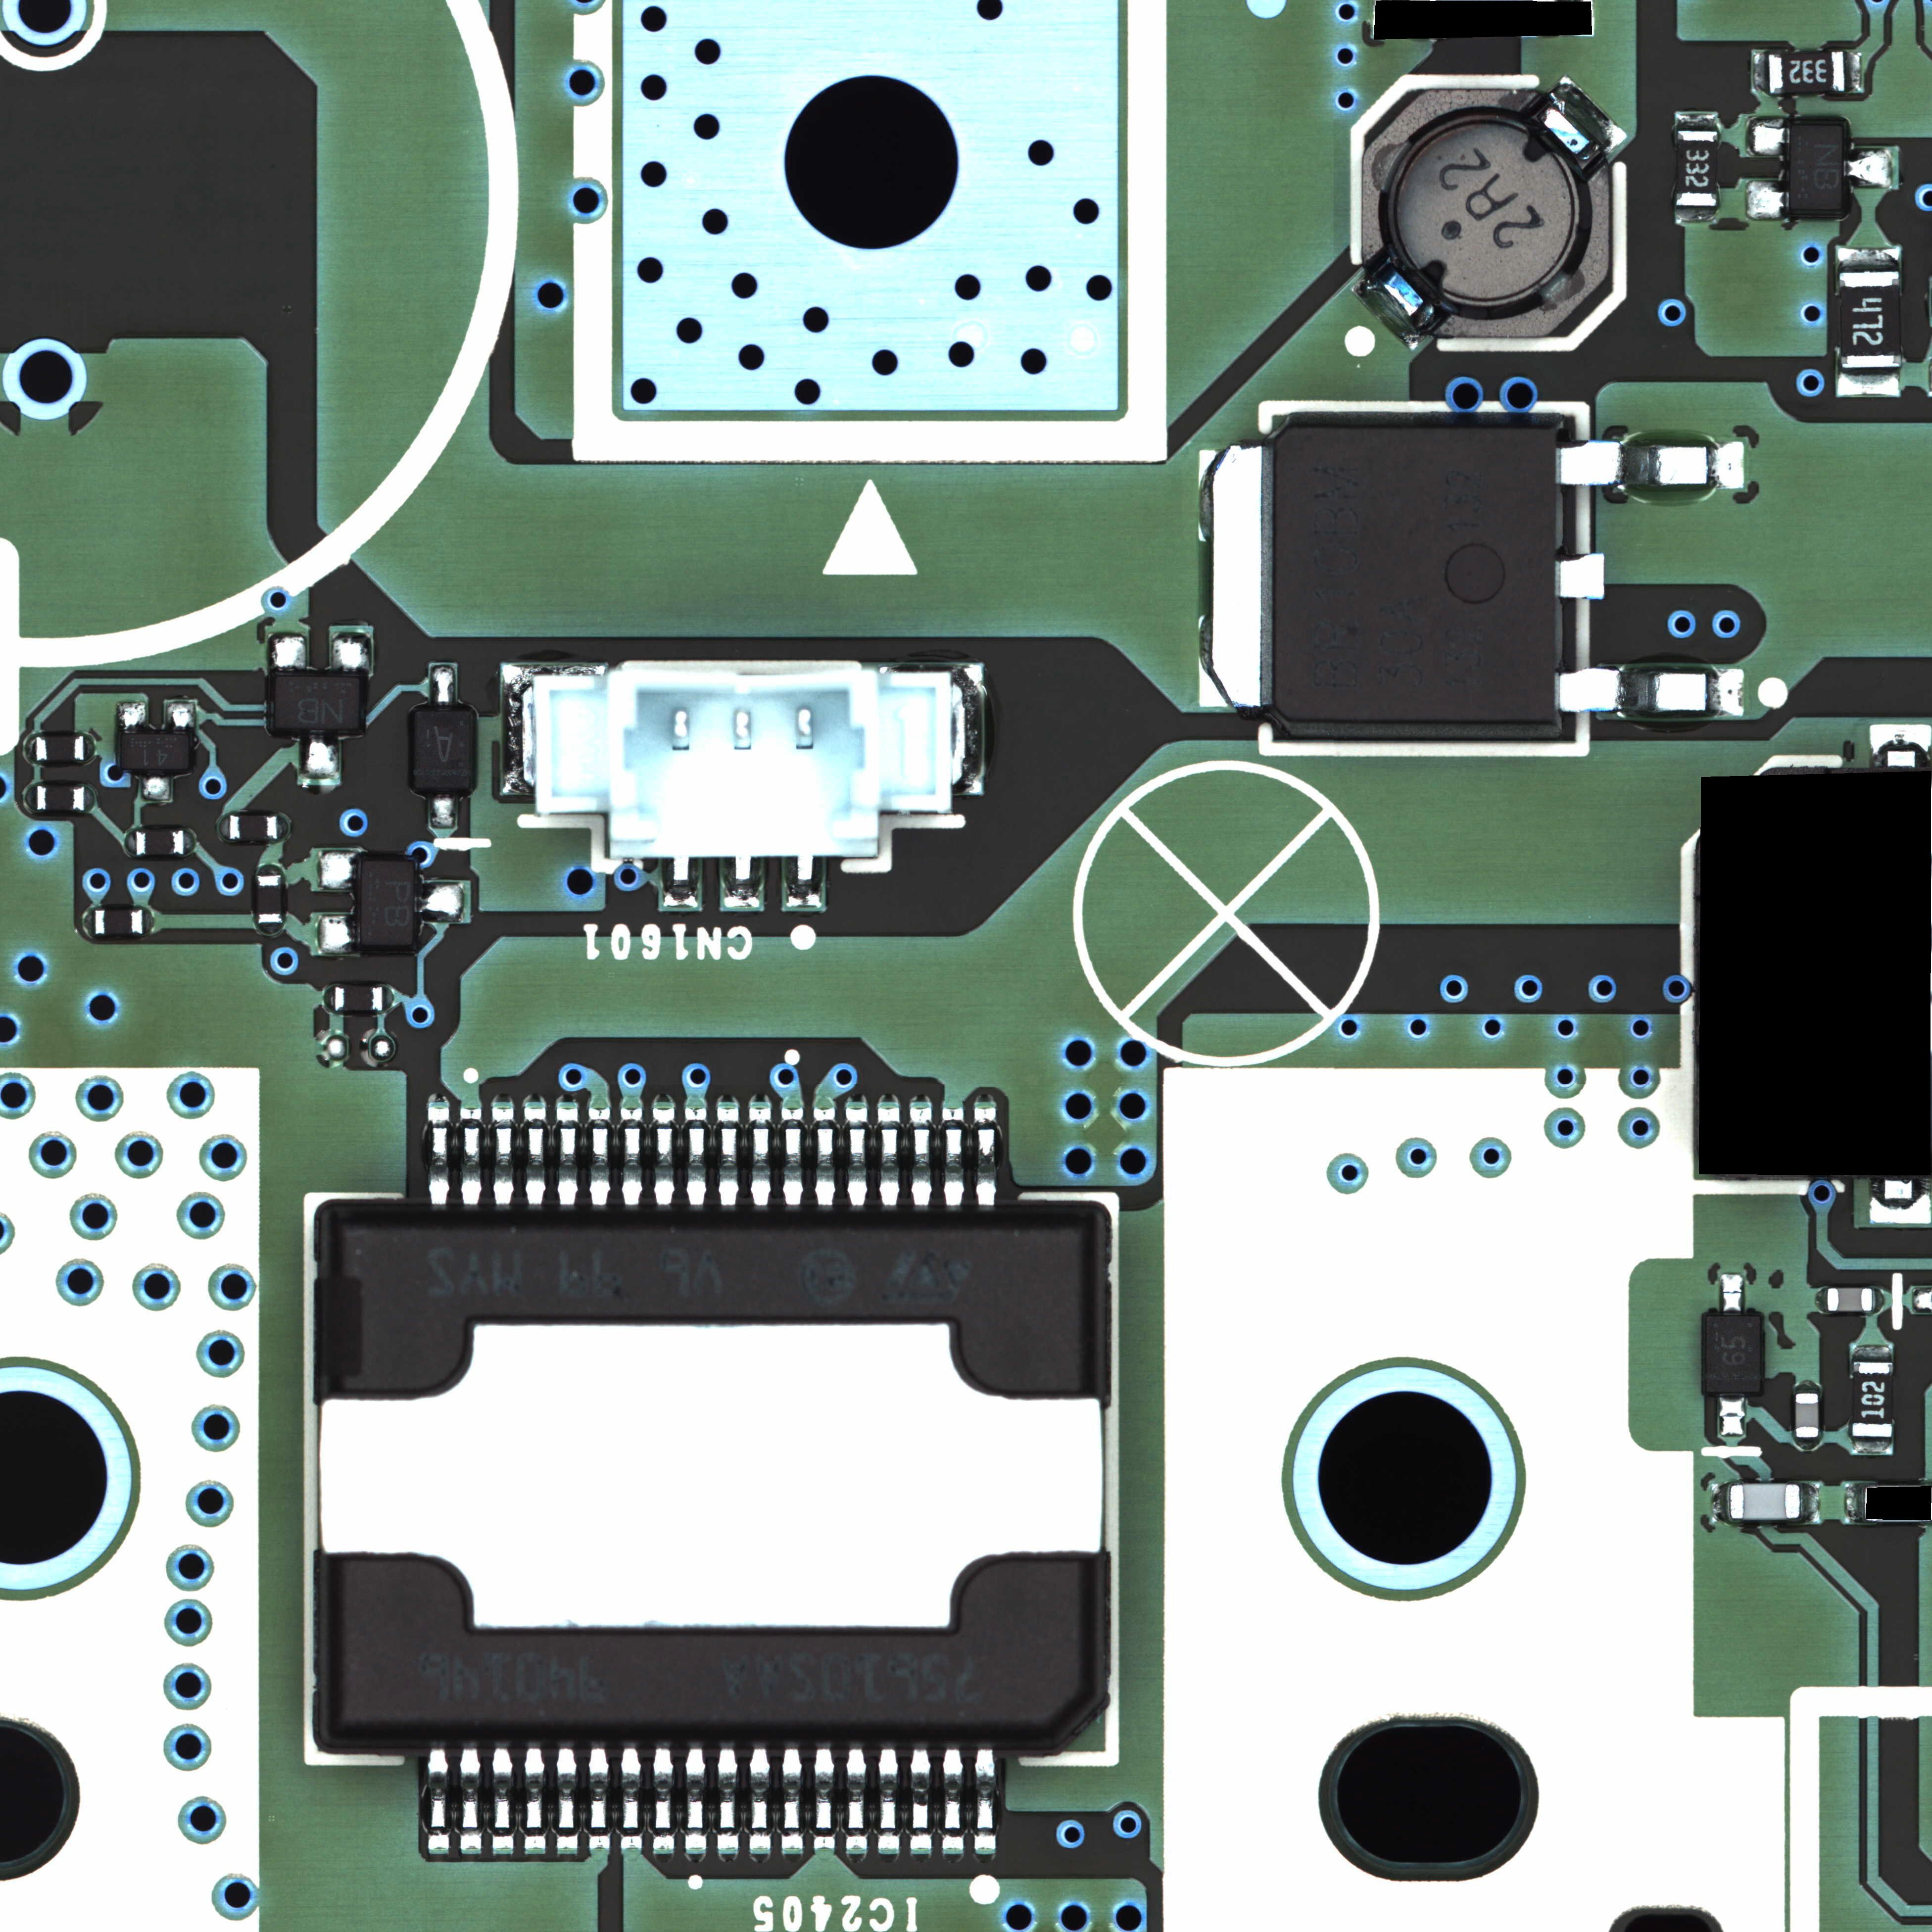Package: (317, 1210, 1111, 1741), (1307, 34, 1665, 393), (1276, 426, 1553, 722), (1840, 272, 1902, 368), (1790, 122, 1845, 212), (272, 674, 359, 731), (361, 860, 414, 947), (416, 709, 471, 793), (1707, 1316, 1760, 1392), (1769, 51, 1845, 92), (1677, 131, 1718, 205), (1854, 1361, 1893, 1437), (119, 734, 191, 771), (1730, 1484, 1799, 1518), (228, 814, 276, 840), (334, 985, 382, 1012), (35, 736, 83, 761), (37, 786, 85, 810), (134, 830, 182, 855), (94, 909, 142, 934), (258, 876, 281, 924), (1828, 1288, 1872, 1311), (1796, 1394, 1819, 1437)
Solder: (1200, 444, 1274, 709), (1555, 441, 1744, 490), (1555, 667, 1744, 717), (1543, 73, 1629, 159), (1348, 269, 1430, 354), (1868, 724, 1932, 768), (1870, 1178, 1930, 1223), (587, 1741, 610, 1851), (717, 1741, 740, 1851), (748, 1741, 771, 1851), (524, 1741, 547, 1851), (812, 1741, 835, 1851), (878, 1741, 901, 1851), (909, 1741, 932, 1851), (941, 1741, 964, 1851), (973, 1741, 996, 1851), (460, 1741, 483, 1851), (556, 1741, 579, 1849), (780, 1741, 803, 1849), (428, 1106, 451, 1210), (524, 1106, 547, 1210), (621, 1106, 644, 1210), (717, 1106, 740, 1210), (846, 1106, 869, 1210), (941, 1106, 964, 1210), (460, 1108, 483, 1210), (492, 1108, 515, 1210), (556, 1108, 579, 1210), (587, 1108, 610, 1210), (653, 1108, 676, 1210), (685, 1108, 708, 1210), (748, 1108, 771, 1210), (780, 1108, 803, 1210), (812, 1108, 835, 1210), (878, 1108, 901, 1210), (909, 1108, 932, 1210), (973, 1108, 996, 1210), (492, 1741, 513, 1851), (621, 1741, 642, 1851), (653, 1741, 674, 1851), (685, 1741, 706, 1851), (428, 1741, 449, 1851), (846, 1741, 867, 1849), (1557, 552, 1605, 600), (297, 732, 340, 780), (414, 883, 464, 924), (1845, 149, 1891, 189), (331, 632, 372, 674), (318, 915, 361, 955), (1746, 115, 1789, 156), (1746, 180, 1789, 221), (1838, 246, 1902, 272), (1836, 370, 1900, 396), (318, 851, 361, 890), (269, 633, 308, 674), (1718, 1394, 1746, 1437), (430, 663, 455, 709), (1720, 1272, 1744, 1316), (165, 701, 196, 732), (117, 701, 149, 732), (430, 793, 455, 830), (140, 771, 170, 801), (1801, 1483, 1821, 1523), (1845, 1484, 1865, 1523), (1845, 51, 1863, 94), (1677, 205, 1718, 223), (1711, 1483, 1729, 1523), (1752, 53, 1767, 96), (1677, 113, 1718, 129), (1852, 1345, 1893, 1361), (1852, 1438, 1893, 1454), (25, 784, 37, 810), (1794, 1380, 1821, 1392), (1794, 1438, 1821, 1451), (278, 812, 288, 842), (384, 984, 395, 1014), (324, 984, 334, 1014), (184, 830, 196, 855), (81, 909, 94, 934), (25, 734, 35, 763), (85, 784, 96, 812), (124, 828, 134, 856), (85, 734, 96, 761), (143, 908, 154, 934), (1874, 1286, 1884, 1313), (258, 924, 283, 934), (1815, 1288, 1826, 1313), (219, 812, 228, 840), (258, 863, 280, 874)
